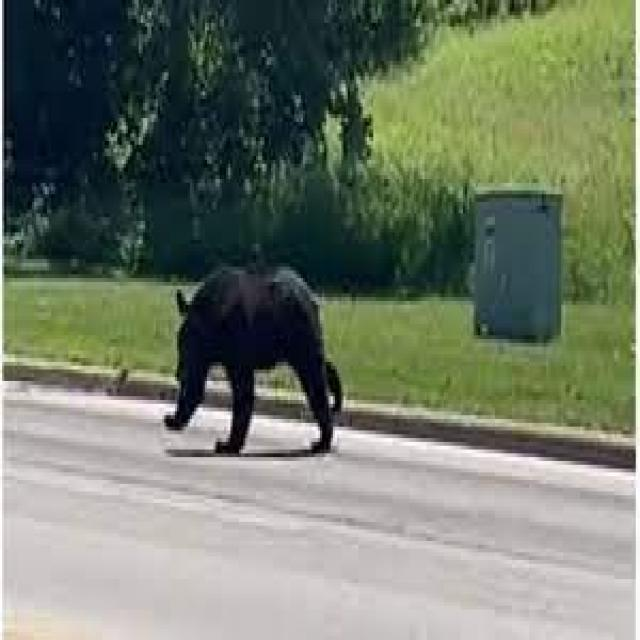Bear: (162, 267, 343, 457)
